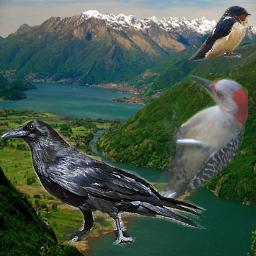Crow: (0, 119, 213, 249)
Swallow: (188, 5, 252, 61)
Woodpecker: (146, 75, 248, 216)
